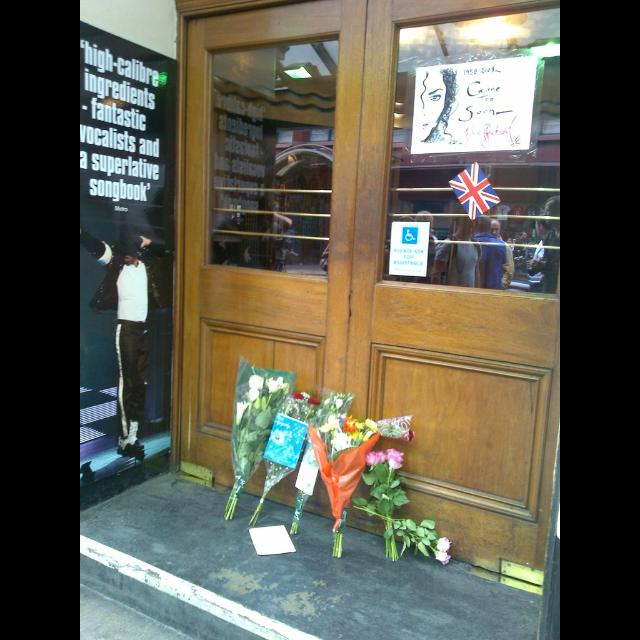Flower: (312, 395, 378, 457), (232, 373, 288, 425), (282, 390, 320, 428), (388, 446, 404, 470), (366, 451, 384, 467), (434, 550, 451, 566), (401, 428, 414, 442), (436, 540, 452, 550)
